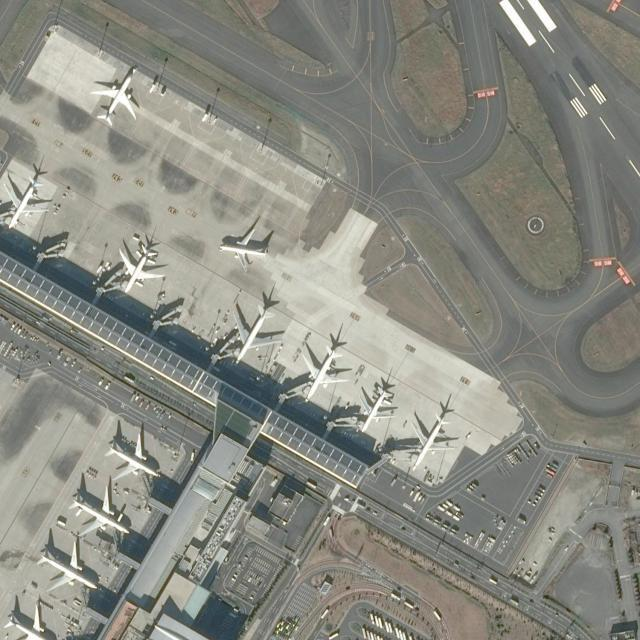Aircraft: (232, 298, 286, 364), (37, 539, 103, 593), (73, 482, 131, 541), (106, 424, 166, 481), (90, 67, 141, 129), (301, 341, 352, 403), (2, 172, 56, 230), (408, 412, 458, 472), (117, 239, 169, 294), (219, 222, 273, 269), (357, 381, 399, 435), (6, 600, 60, 640)
